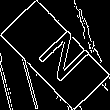N_SW: (22, 23, 88, 87)
